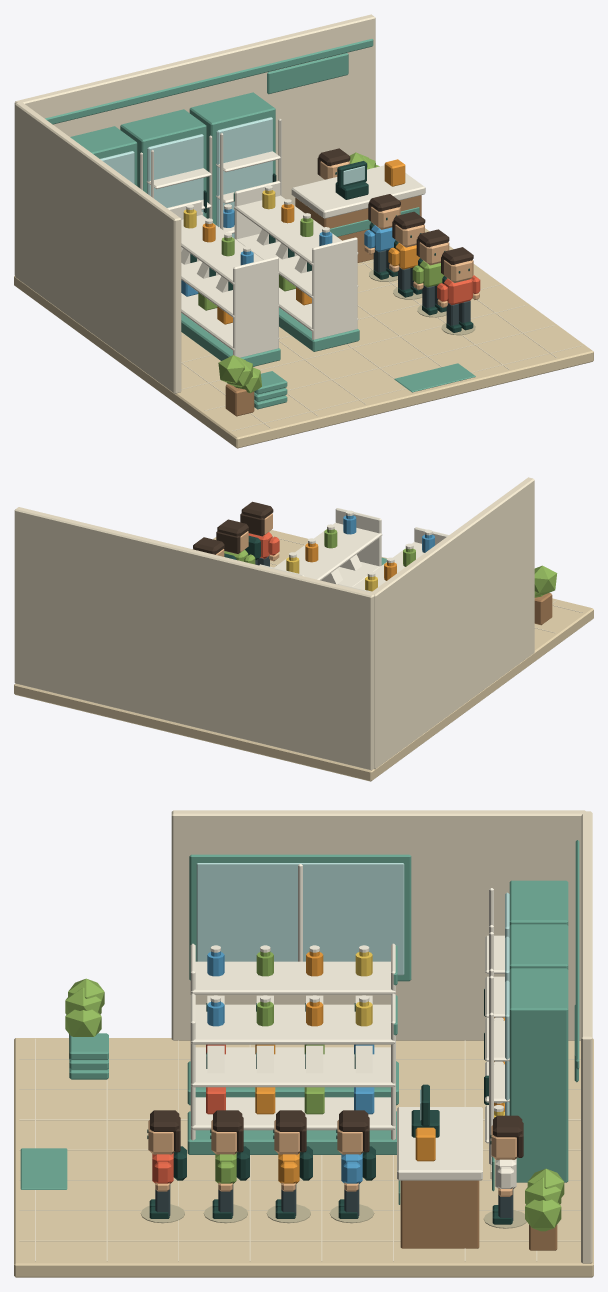
The model's file is mini-store.glb.
The picture shows the model from 3 angles, top to bottom: view 1: azimuth 30°, elevation 25°; view 2: azimuth 150°, elevation 25°; view 3: azimuth 270°, elevation 25°; orthographic projection. The views are drawn at different scales.
Visible parts, largest first — view 1: Floor, LeftWall, BackWall, shelf_upright.002, shelf_upright, cooler_interior.002, cooler_interior.001, cooler_body.002, counter_top, WallStripe, cooler_body.001, shelf_board.005 (+18 smaller); view 2: BackWall, LeftWall, Floor, shelf_board.005, shelf_upright.002, Leaf.002, shelf_board.004, pot, shelf_board.002; view 3: Floor, LeftWall, Window, cooler_body.002, shelf_board.005, shelf_board.002, counter_body, BackWall, shelf_board.004, counter_top, WindowFrame, shelf_board.003 (+30 smaller).
Boxes of the visible parts, <box> form: Floor: <box>14,228,593,448</box>; LeftWall: <box>15,102,181,393</box>; BackWall: <box>14,14,375,275</box>; shelf_upright.002: <box>312,237,357,339</box>; shelf_upright: <box>233,256,278,357</box>; cooler_interior.002: <box>216,117,272,238</box>; cooler_interior.001: <box>147,134,203,215</box>; cooler_body.002: <box>189,92,275,225</box>; counter_top: <box>291,165,425,218</box>; WallStripe: <box>45,39,373,124</box>; cooler_body.001: <box>120,109,206,217</box>; shelf_board.005: <box>234,195,358,265</box>; BackWall: <box>14,507,373,770</box>; LeftWall: <box>370,477,534,769</box>; Floor: <box>14,521,593,781</box>; shelf_board.005: <box>274,522,382,580</box>; shelf_upright.002: <box>335,508,381,566</box>; Leaf.002: <box>534,565,557,595</box>; shelf_board.004: <box>337,562,380,586</box>; pot: <box>534,593,552,625</box>; shelf_board.002: <box>353,541,424,589</box>; Floor: <box>14,1038,593,1277</box>; LeftWall: <box>171,810,585,1040</box>; Window: <box>196,863,404,975</box>; cooler_body.002: <box>509,968,568,1182</box>; shelf_board.005: <box>191,1011,395,1044</box>; shelf_board.002: <box>191,961,395,994</box>; counter_body: <box>400,1180,479,1248</box>; BackWall: <box>581,811,592,1263</box>; shelf_board.004: <box>191,1054,395,1087</box>; counter_top: <box>397,1107,482,1180</box>; WindowFrame: <box>189,854,411,981</box>; shelf_board.003: <box>191,1097,395,1130</box>.
Bounding box in the file's own units: 7.53 × 3.71 × 8.1.
